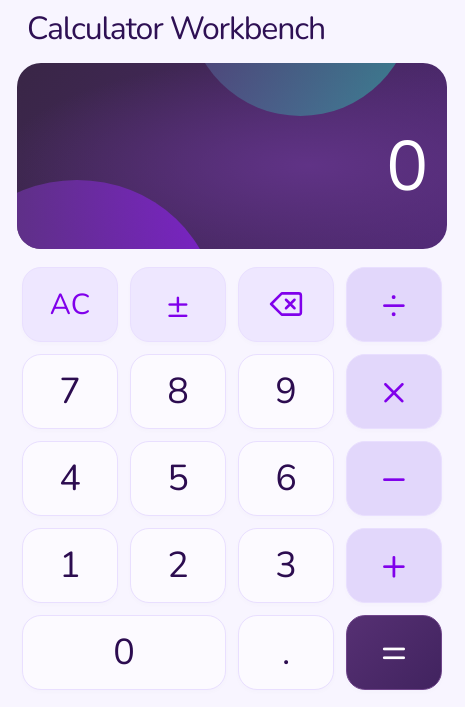
Test: calculator keypad › chains left-to-right through the backend: 2 + 3 × 4 = 20
This screenshot has width=465, height=707.
Click the button "2". click: (178, 565)
box: [130,528,226,603]
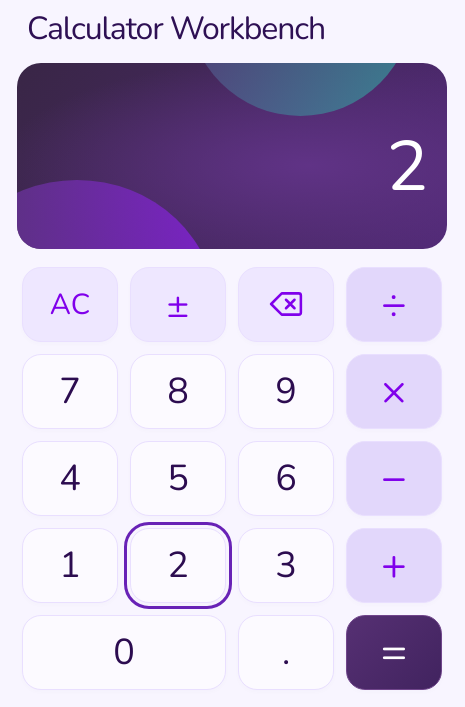
Click the button named "Add". click: (394, 565)
box: [346,528,442,603]
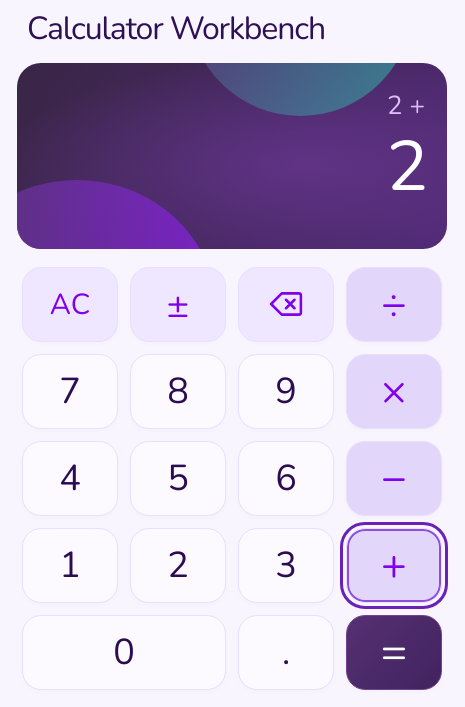
Click the button "3". click: (286, 565)
box: [238,528,334,603]
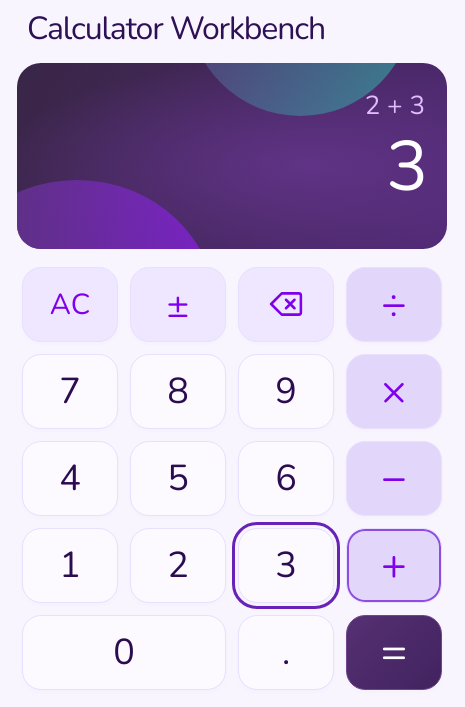
Click the button named "Multiply". click: (394, 391)
box: [346,354,442,429]
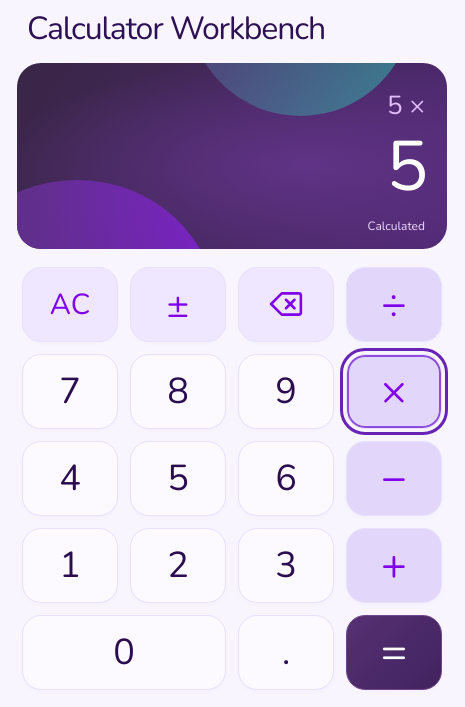
Result: the text named "Result" reads "5" at [386,119,425,215]
Click the button "4". click: (70, 478)
box: [22,441,118,516]
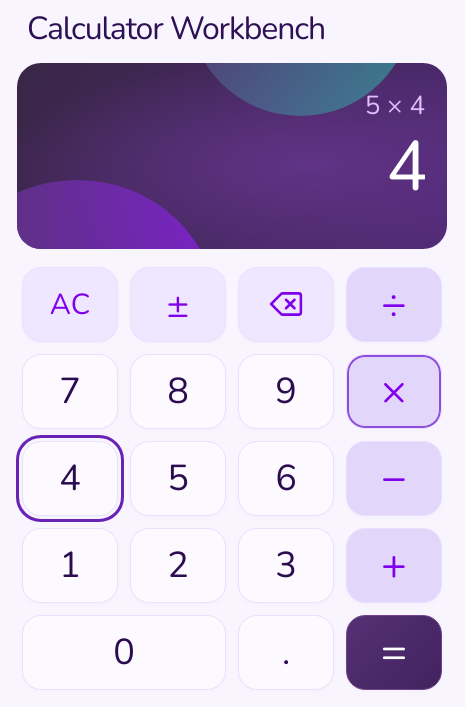
Click the button named "Equals". click: (394, 652)
box: [346,615,442,690]
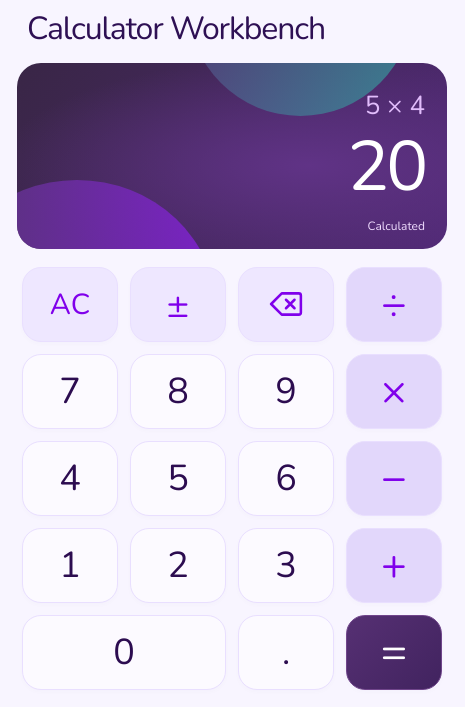
Result: the text named "Result" reads "20" at [347,119,425,215]
